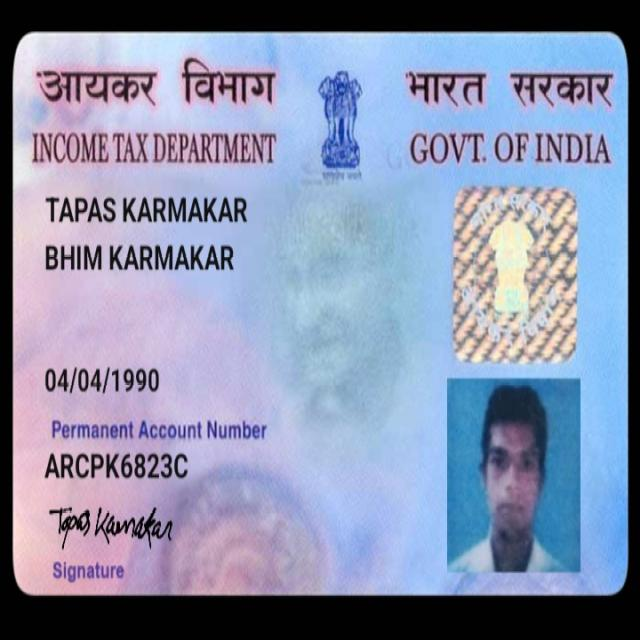pan_card: (19, 39, 624, 593)
